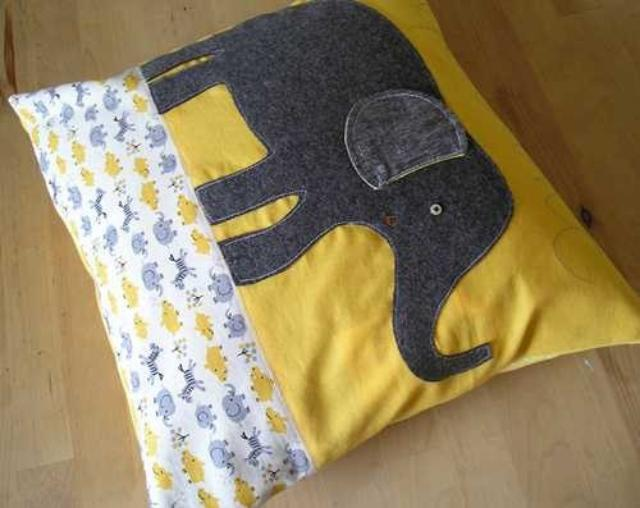pillow: (7, 0, 639, 506)
